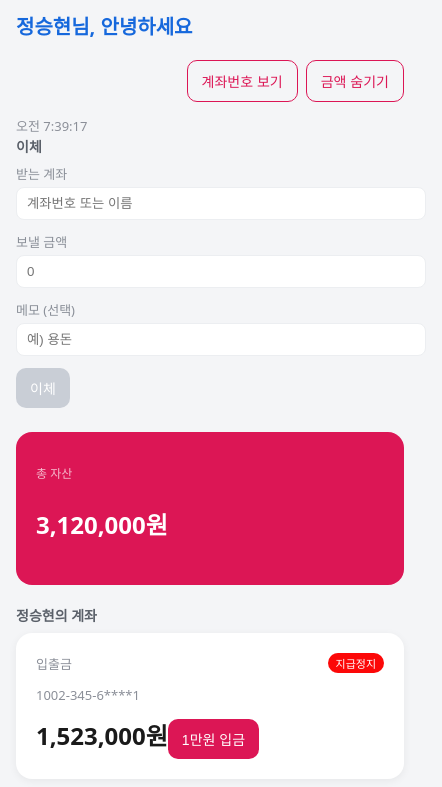
Test: App 안전망 테스트 › "1만원 입금" 버튼을 누르면 총 자산이 10,000원 늘어난다
Expected: the text "3,120,000원" is shown, [36,508,168,541]
Note: 첫 번째 계좌의 입금 버튼을 누른다
Click the button "1만원 입금" at {"x": 214, "y": 739}, box [168,719,259,759]
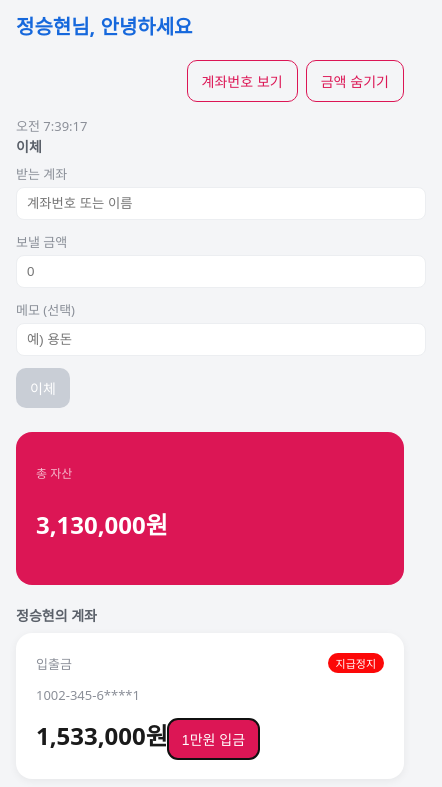
Expected: the text "3,130,000원" is shown, [36,508,168,541]
